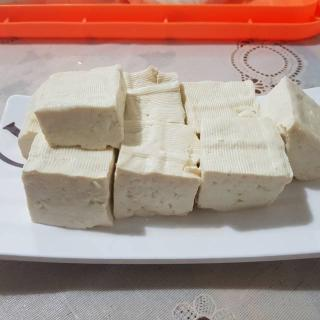Tahu: (32, 64, 136, 151)
